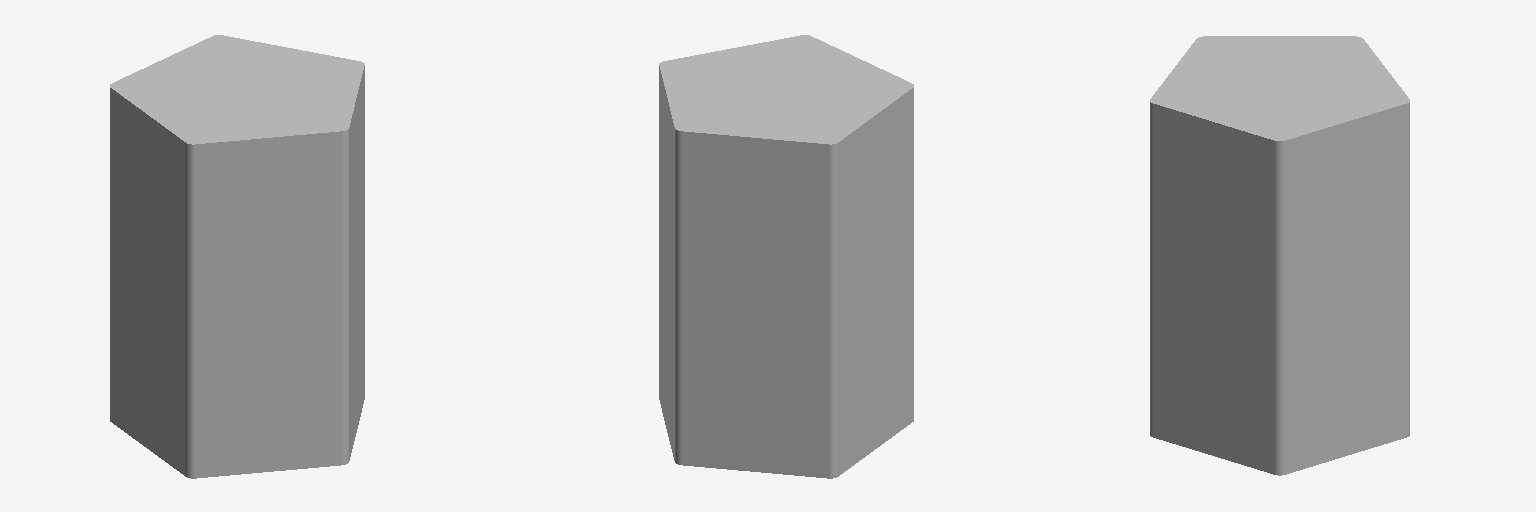
File: lengxing_obj.obj
The picture shows the model from 3 angles: view 1: azimuth 30°, elevation 25°; view 2: azimuth 150°, elevation 25°; view 3: azimuth 270°, elevation 25°; orthographic projection.
Visible parts, largest first — view 1: Gengon001; view 2: Gengon001; view 3: Gengon001.
Boxes of the visible parts, box(x1,y1,x2,y2) form: Gengon001: box(110, 35, 364, 478); Gengon001: box(659, 35, 913, 478); Gengon001: box(1150, 36, 1409, 475).
Size of the model in its own units: 29.91 by 44.33 by 31.34.